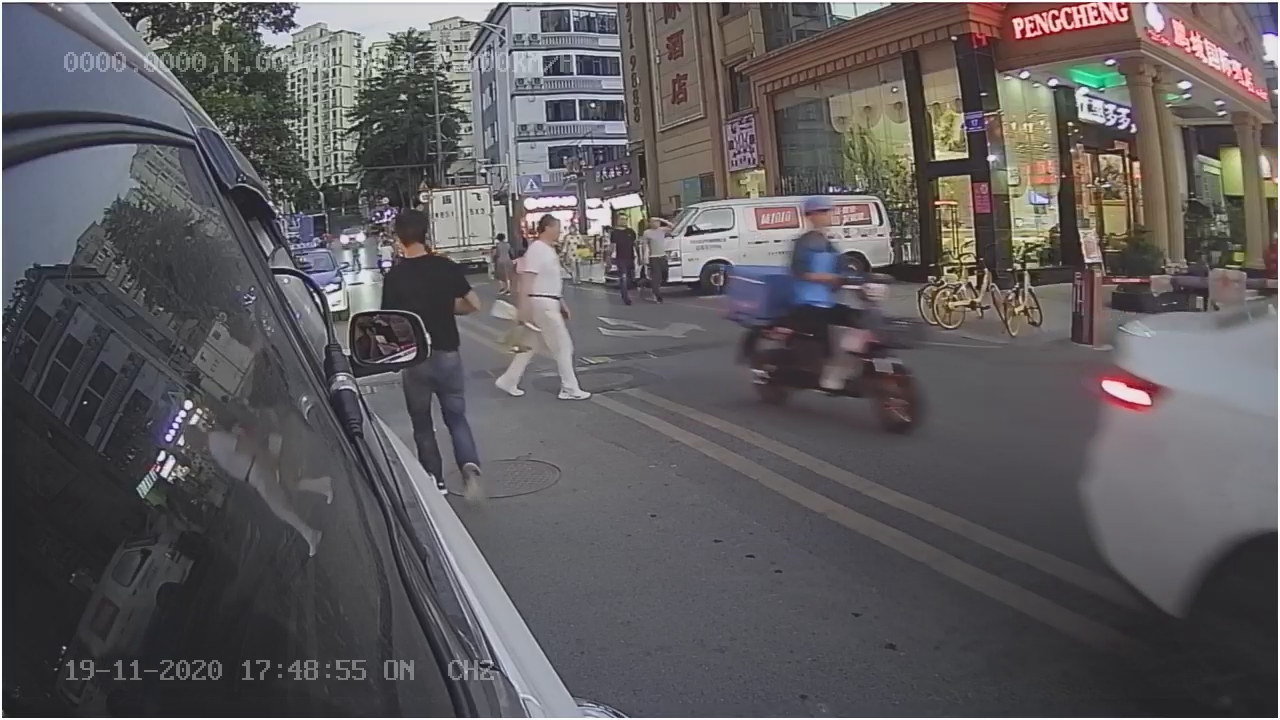person: (484, 212, 591, 415)
